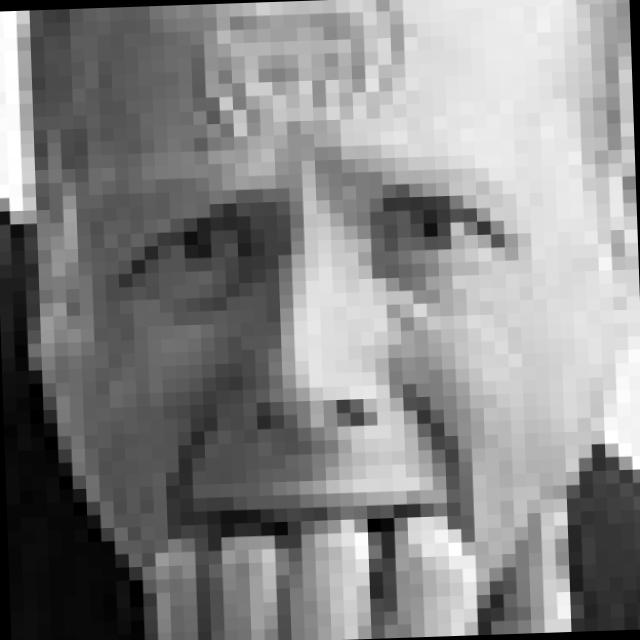fear: (94, 127, 544, 622)
